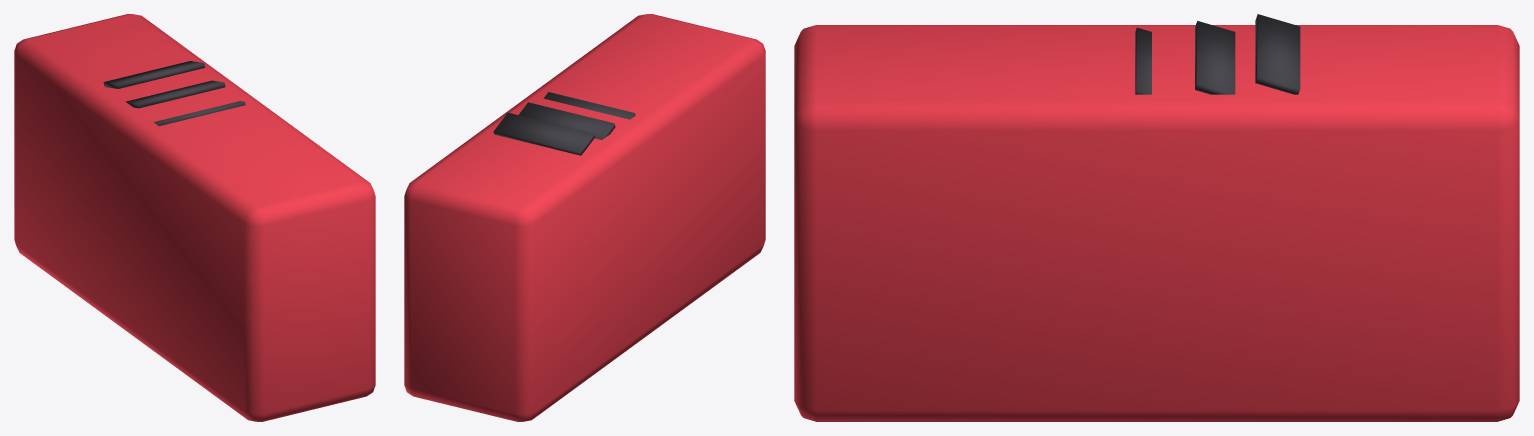
File: hypercar_fender_front_left.glb
3 renders of one model, left to right at view 1: azimuth 30°, elevation 25°; view 2: azimuth 150°, elevation 25°; view 3: azimuth 270°, elevation 25°, orthographic. The views are drawn at different scales.
Parts seen in each view (by area): view 1: Hypercar_Fender_Front_Left; view 2: Hypercar_Fender_Front_Left; view 3: Hypercar_Fender_Front_Left.
Boxes of the visible parts, x1,y1,x2,y2 form: Hypercar_Fender_Front_Left: (14,14,375,421); Hypercar_Fender_Front_Left: (404,14,765,421); Hypercar_Fender_Front_Left: (794,14,1519,421).
Bounding box in the file's own units: 0.24 × 0.4012 × 0.78.
